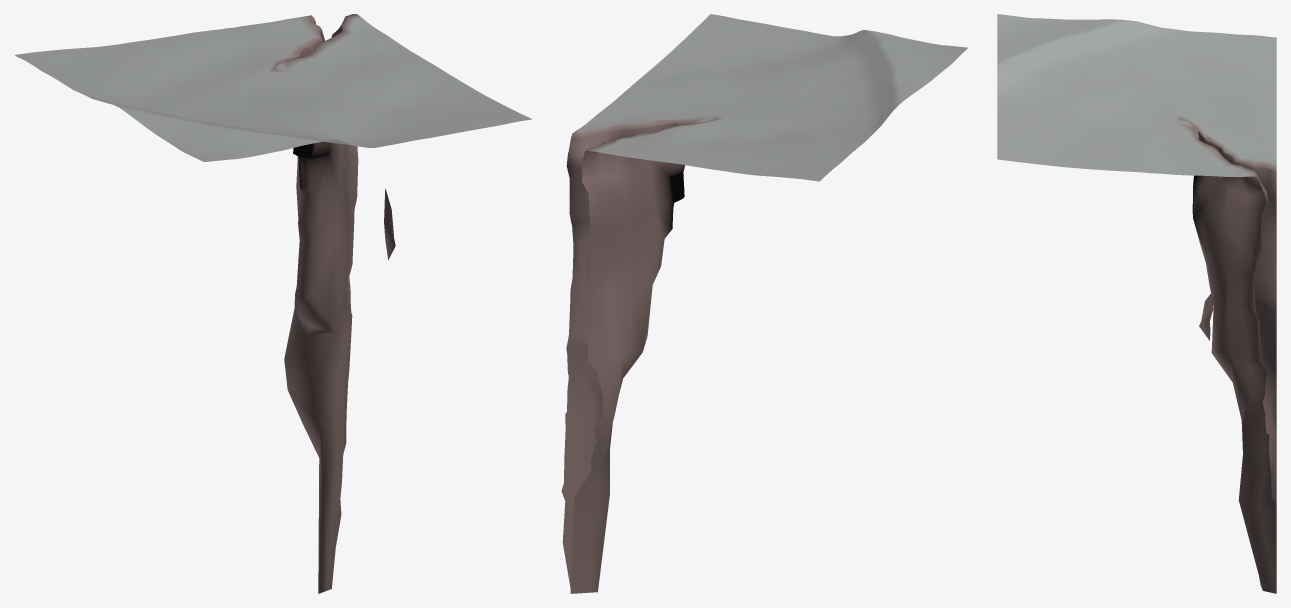
3 views of the same model, side by side, from view 1: azimuth 30°, elevation 25°; view 2: azimuth 150°, elevation 25°; view 3: azimuth 270°, elevation 25° (orthographic). The views are drawn at different scales.
Visible parts, largest first — view 1: G:\FFXIV-MapTools\exports\u5f1\bg\ex4\04_uvs_u5\fld\u5f1\bgp (×9); view 2: G:\FFXIV-MapTools\exports\u5f1\bg\ex4\04_uvs_u5\fld\u5f1\bgp (×10); view 3: G:\FFXIV-MapTools\exports\u5f1\bg\ex4\04_uvs_u5\fld\u5f1\bgp (×11).
Part boxes in pixels (box(x1,y1,x2,y2)): G:\FFXIV-MapTools\exports\u5f1\bg\ex4\04_uvs_u5\fld\u5f1\bgp (×9): box(15, 14, 531, 593); G:\FFXIV-MapTools\exports\u5f1\bg\ex4\04_uvs_u5\fld\u5f1\bgp (×10): box(561, 14, 967, 593); G:\FFXIV-MapTools\exports\u5f1\bg\ex4\04_uvs_u5\fld\u5f1\bgp (×11): box(997, 14, 1276, 593).
Bounding box in the file's own units: 128 × 236 × 128.
